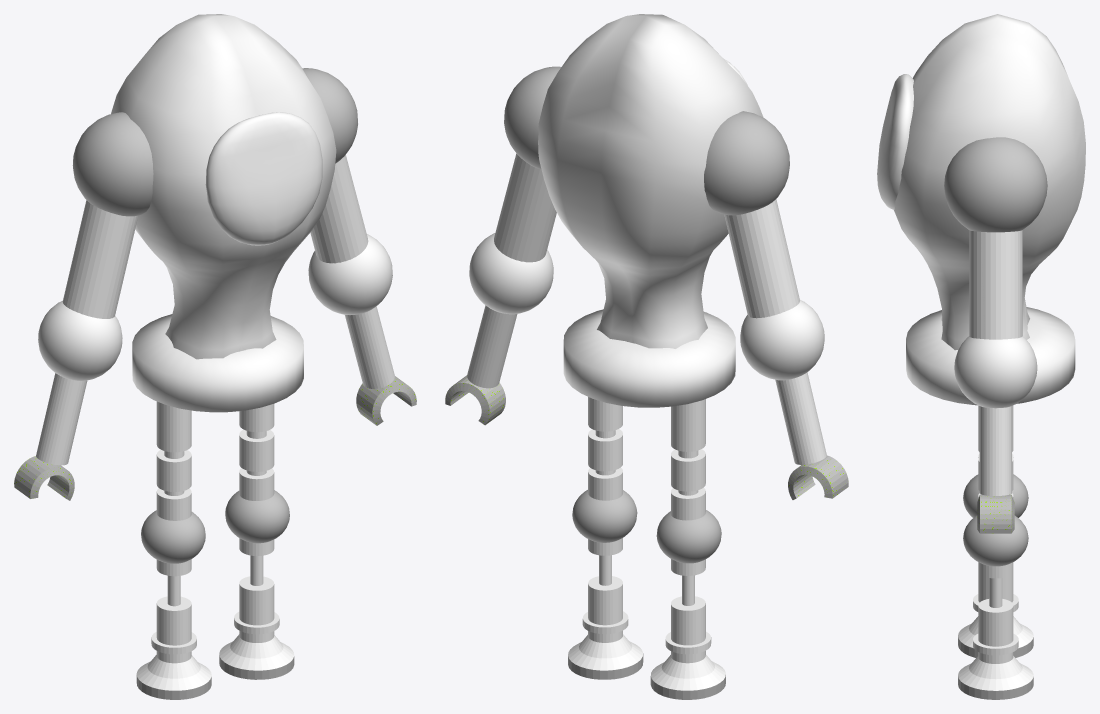
The model's file is RobotMesh.fbx.
3 renders of one model, left to right at view 1: azimuth 30°, elevation 25°; view 2: azimuth 150°, elevation 25°; view 3: azimuth 270°, elevation 25°, orthographic.
Visible parts, largest first — view 1: Robot; view 2: Robot; view 3: Robot.
Part boxes in pixels (<box>): Robot: <box>14,14,416,699</box>; Robot: <box>445,14,848,699</box>; Robot: <box>877,14,1085,699</box>.
Size of the model in its own units: 87.97 by 143 by 41.85.
